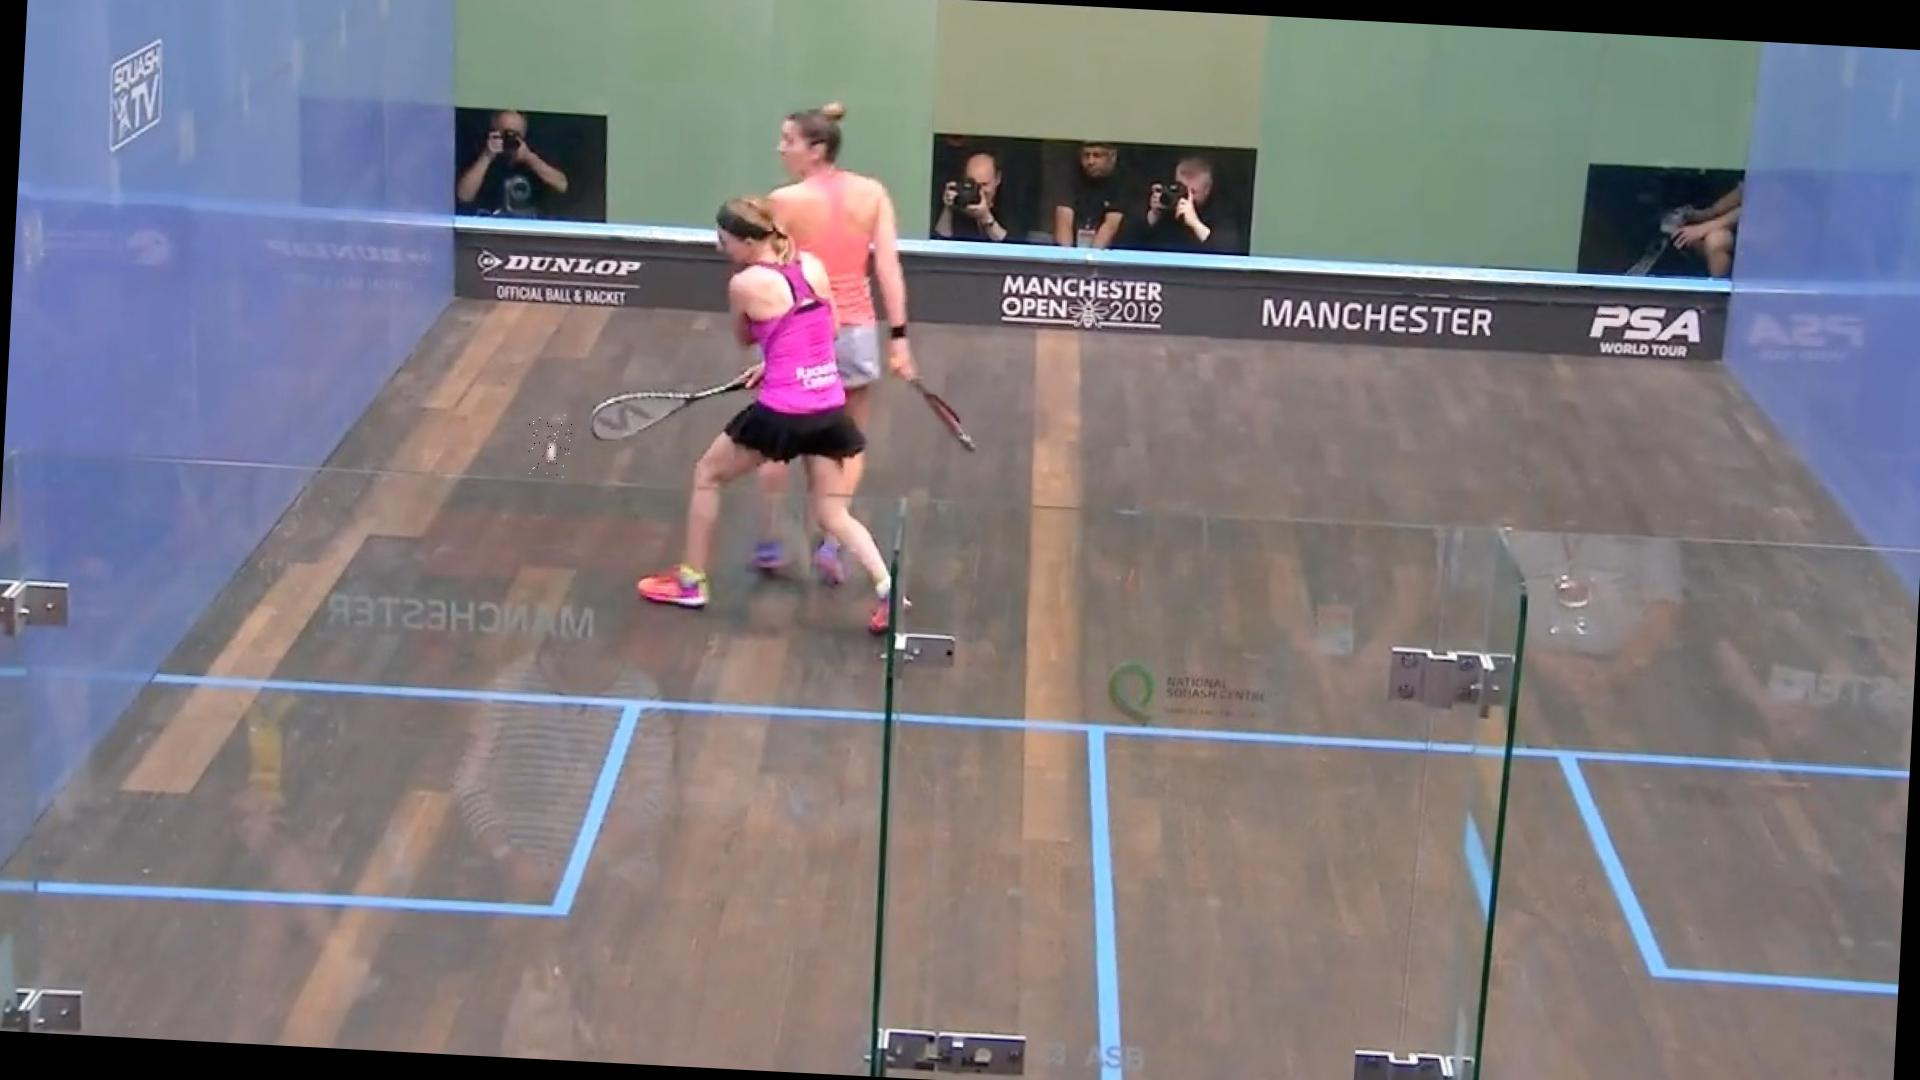Squash-Ball: (526, 413, 575, 480)
